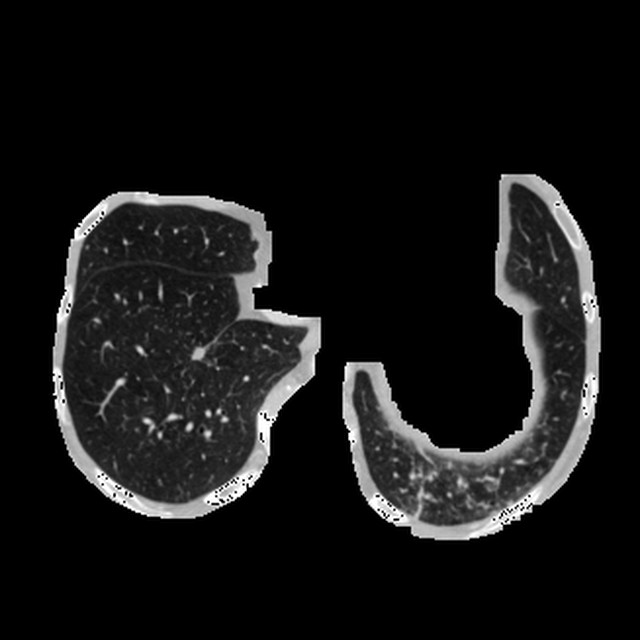PN: (190, 346, 206, 362)
